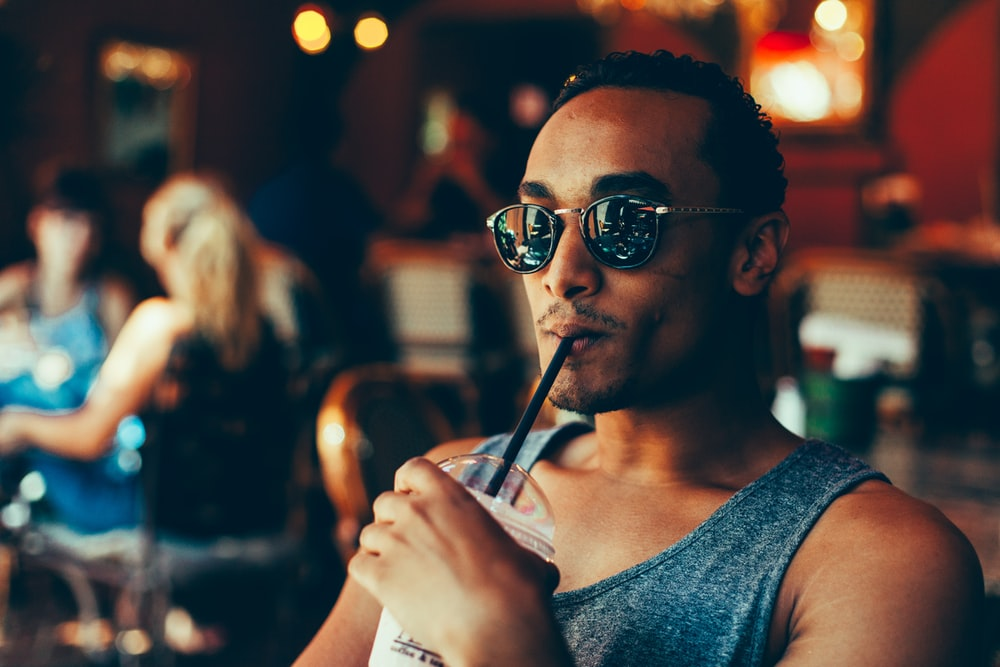drinking: (343, 52, 898, 616)
